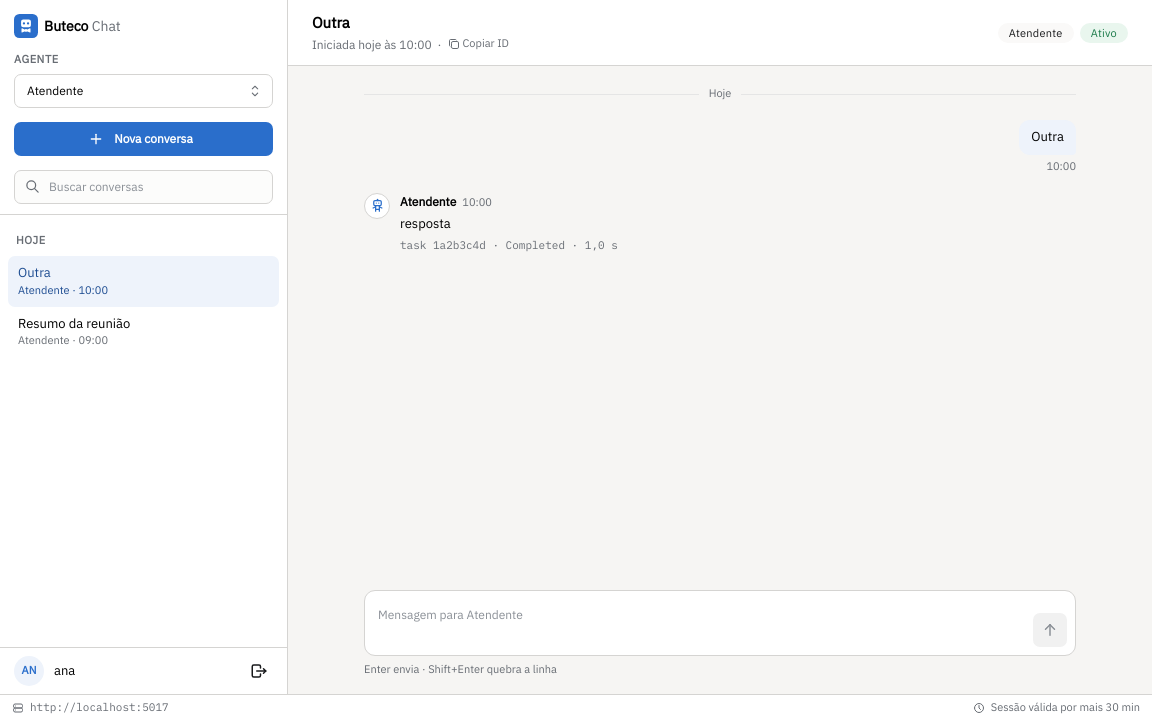
Test: lista › item ativo com aria-current e o selecionado abre na área principal
Step 1. Click the button "Resumo da reunião Atendente · 09:00" → (74, 323), box [8,307,279,357]
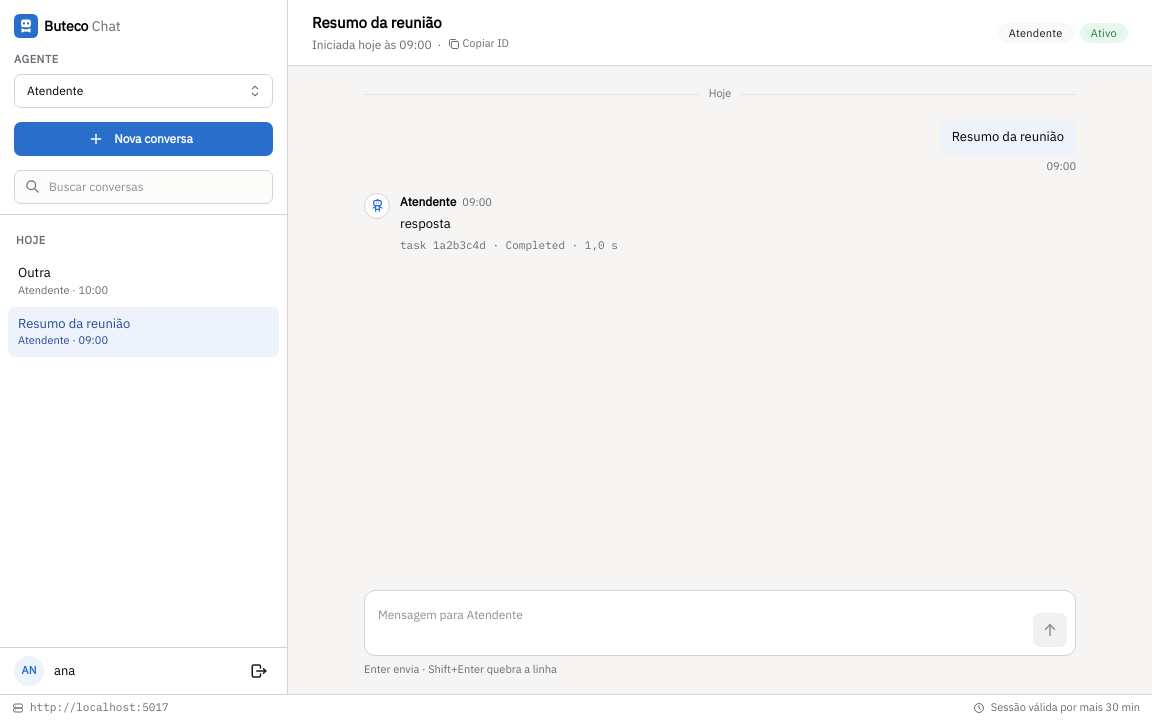
Expected: the heading "Resumo da reunião" is shown, [312,13,442,32]
